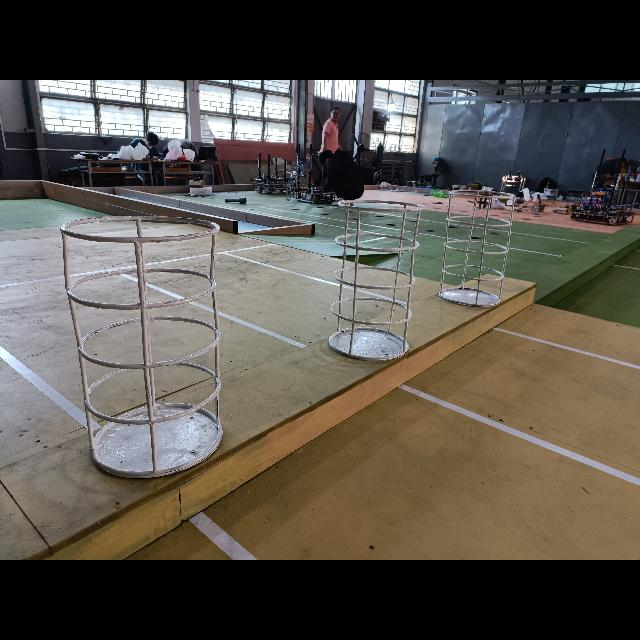S: (59, 213, 224, 479), (328, 198, 427, 364)
